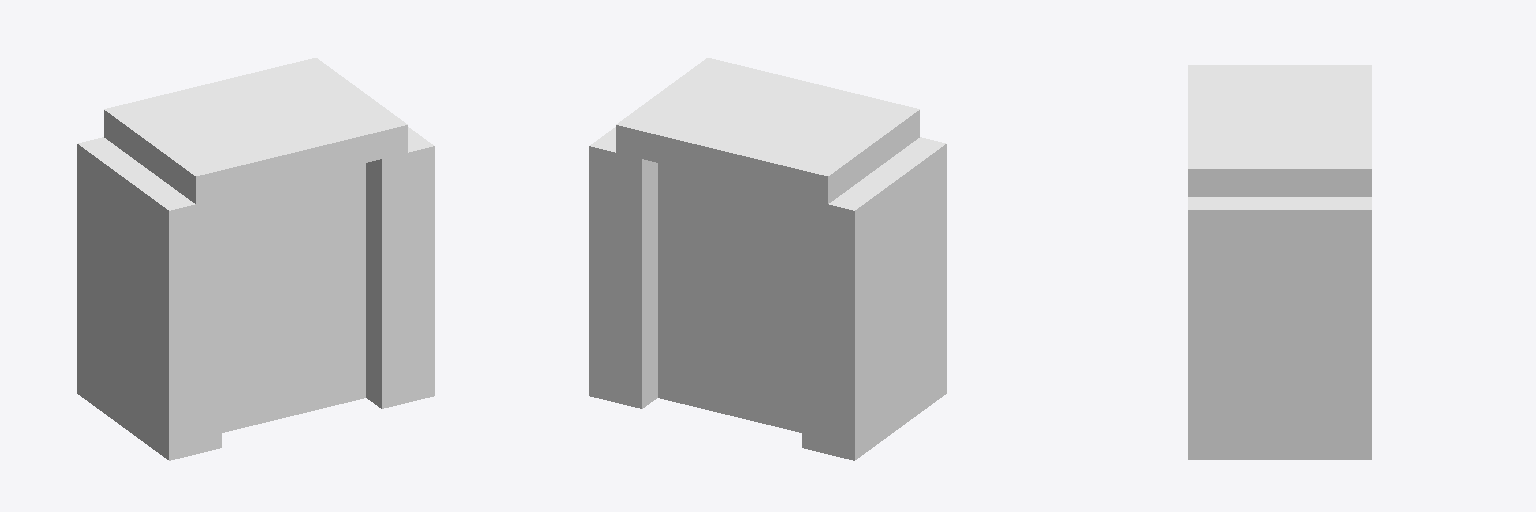
The model's file is NewDoor.obj.
3 views of the same model, side by side, from view 1: azimuth 30°, elevation 25°; view 2: azimuth 150°, elevation 25°; view 3: azimuth 270°, elevation 25° (orthographic).
Size of the model in its own units: 10 by 10 by 6.